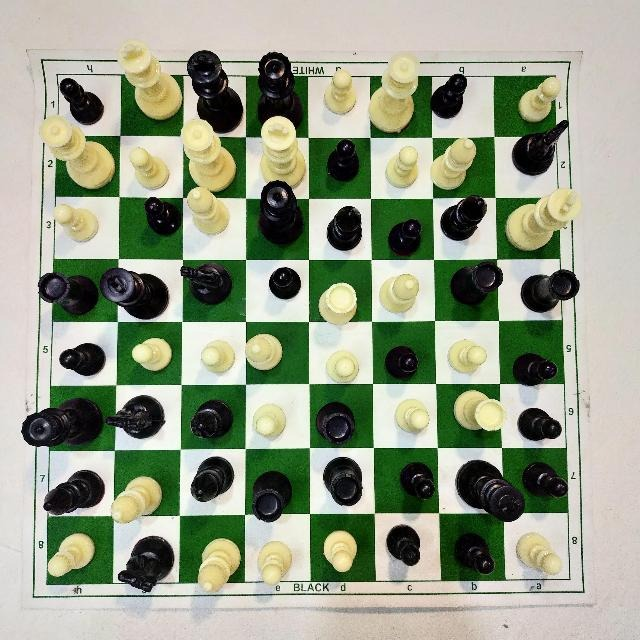black-bishop: (42, 462, 103, 520), (438, 194, 489, 248), (188, 452, 236, 508), (187, 394, 237, 442), (323, 200, 365, 254)
black-king: (186, 50, 244, 133), (452, 459, 526, 523), (101, 266, 171, 317)
black-knight: (110, 530, 180, 595), (507, 113, 572, 174), (170, 259, 239, 309), (105, 388, 169, 440)
black-pawn: (525, 461, 577, 511), (383, 520, 429, 576), (518, 397, 570, 445), (451, 530, 501, 579), (57, 72, 104, 124), (59, 335, 107, 381), (427, 66, 468, 118), (326, 137, 366, 188), (145, 190, 185, 241), (510, 349, 560, 389), (396, 460, 441, 502), (381, 342, 423, 384), (388, 215, 427, 257), (267, 265, 306, 299)
black-queen: (20, 390, 102, 454), (250, 46, 308, 126), (255, 178, 305, 250)
black-rook: (32, 270, 97, 322), (318, 455, 371, 513), (518, 266, 582, 312), (446, 262, 506, 310), (248, 464, 297, 520), (310, 396, 362, 442)
white-bishop: (192, 530, 248, 599), (105, 465, 168, 526), (428, 133, 478, 194), (374, 266, 426, 320), (185, 187, 237, 239), (242, 327, 291, 379)
white-king: (113, 34, 185, 122), (504, 183, 582, 255), (254, 114, 311, 189)
white-pawn: (39, 523, 97, 582), (513, 74, 566, 126), (319, 522, 361, 578), (254, 533, 296, 588), (314, 65, 357, 117), (129, 330, 175, 378), (52, 201, 101, 246), (444, 334, 494, 378), (514, 531, 564, 575), (382, 142, 421, 194), (249, 396, 293, 438), (131, 143, 170, 187), (393, 395, 432, 437), (200, 335, 236, 377), (320, 346, 362, 382)
white-queen: (38, 114, 122, 189), (364, 49, 422, 135), (177, 115, 240, 191)
white-rook: (446, 384, 510, 438), (314, 278, 364, 328)
